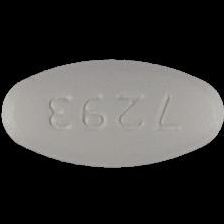61919-867: (0, 0, 224, 224)
